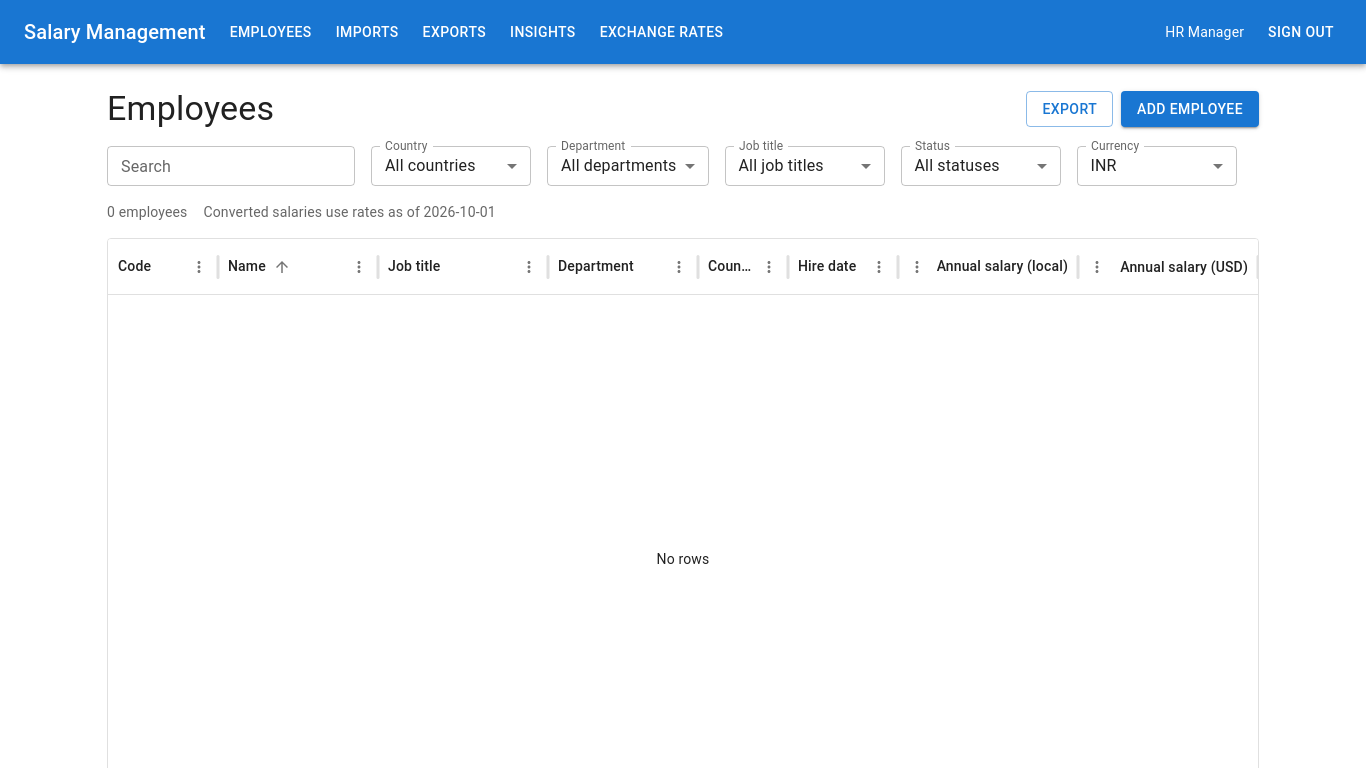
Test: export menu on the employees list › sends nothing when you cancel
Click the button "Export": (1070, 109) [1026,91,1113,127]
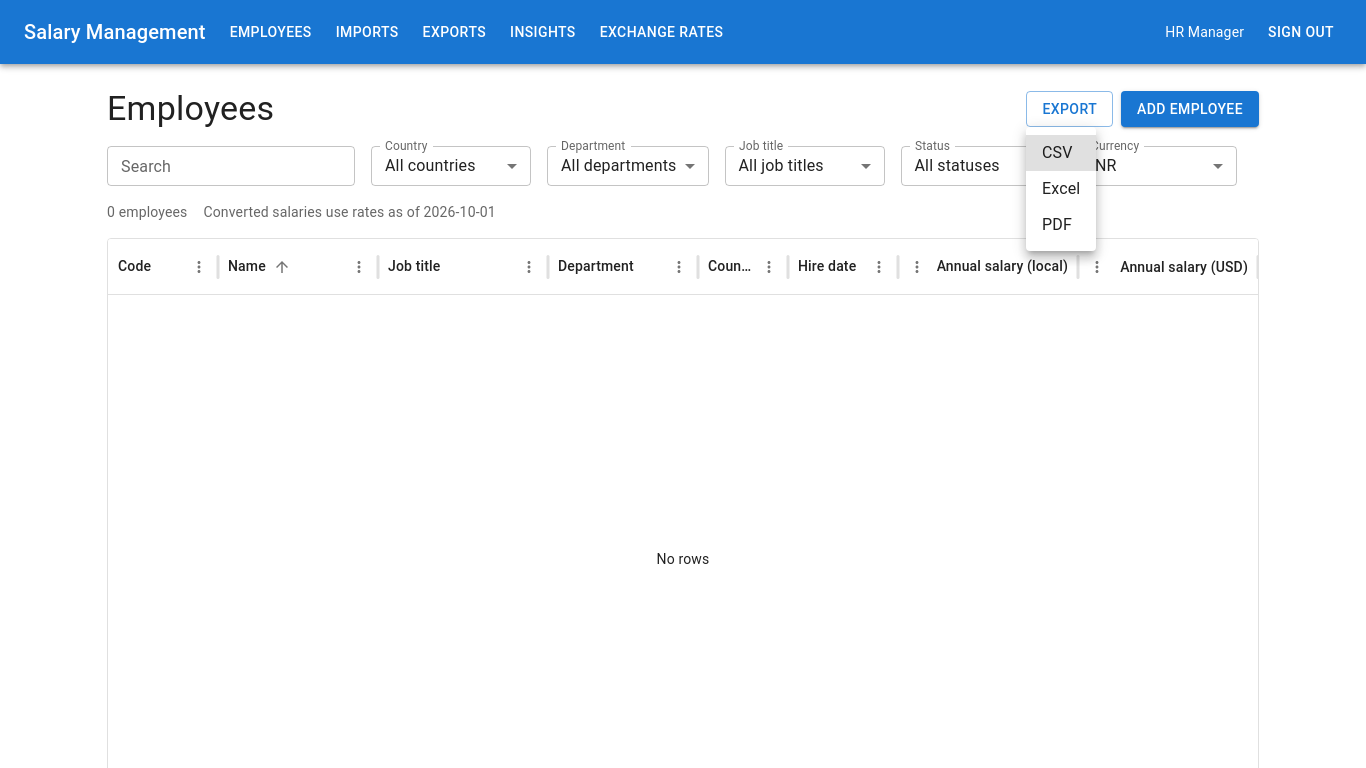
Click the menu item "PDF": (1057, 224) [1042,215,1072,234]
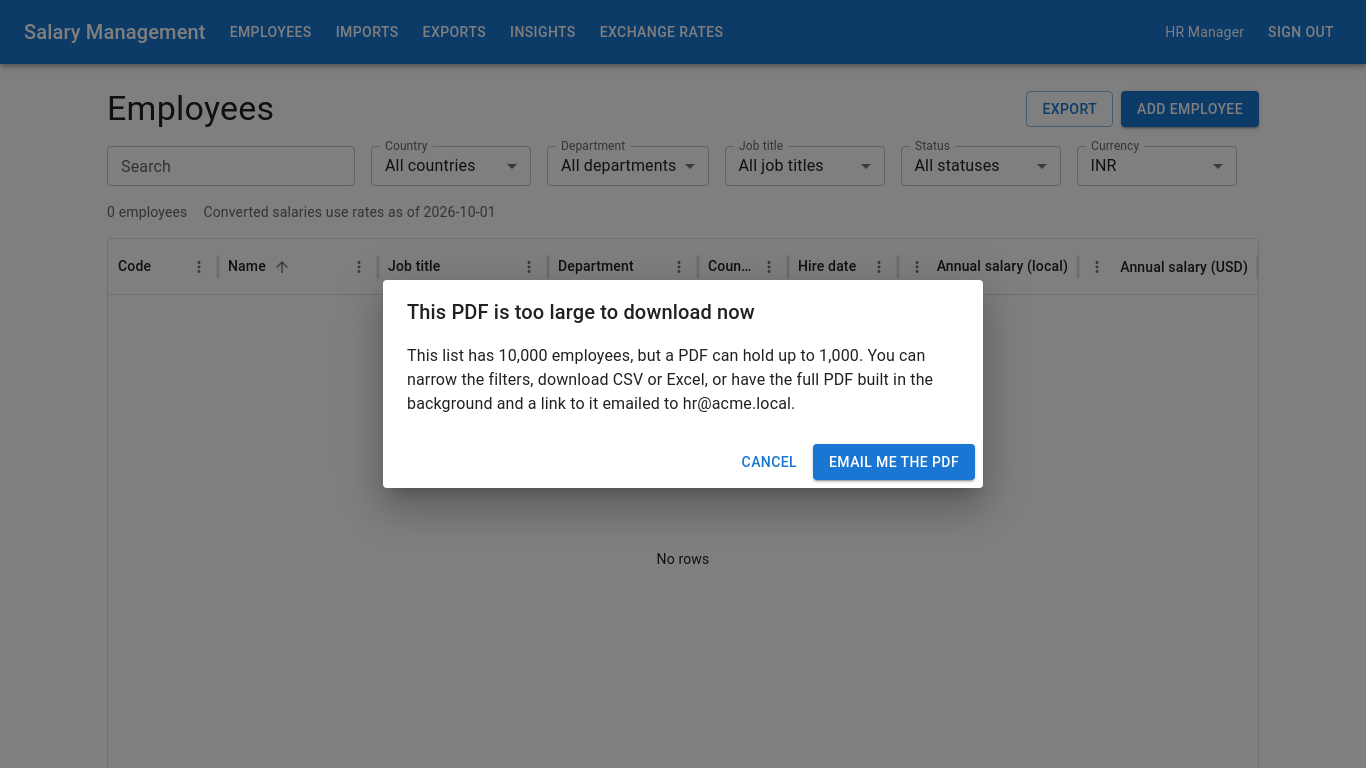
Click the button "Cancel": (769, 462) [734,444,805,480]
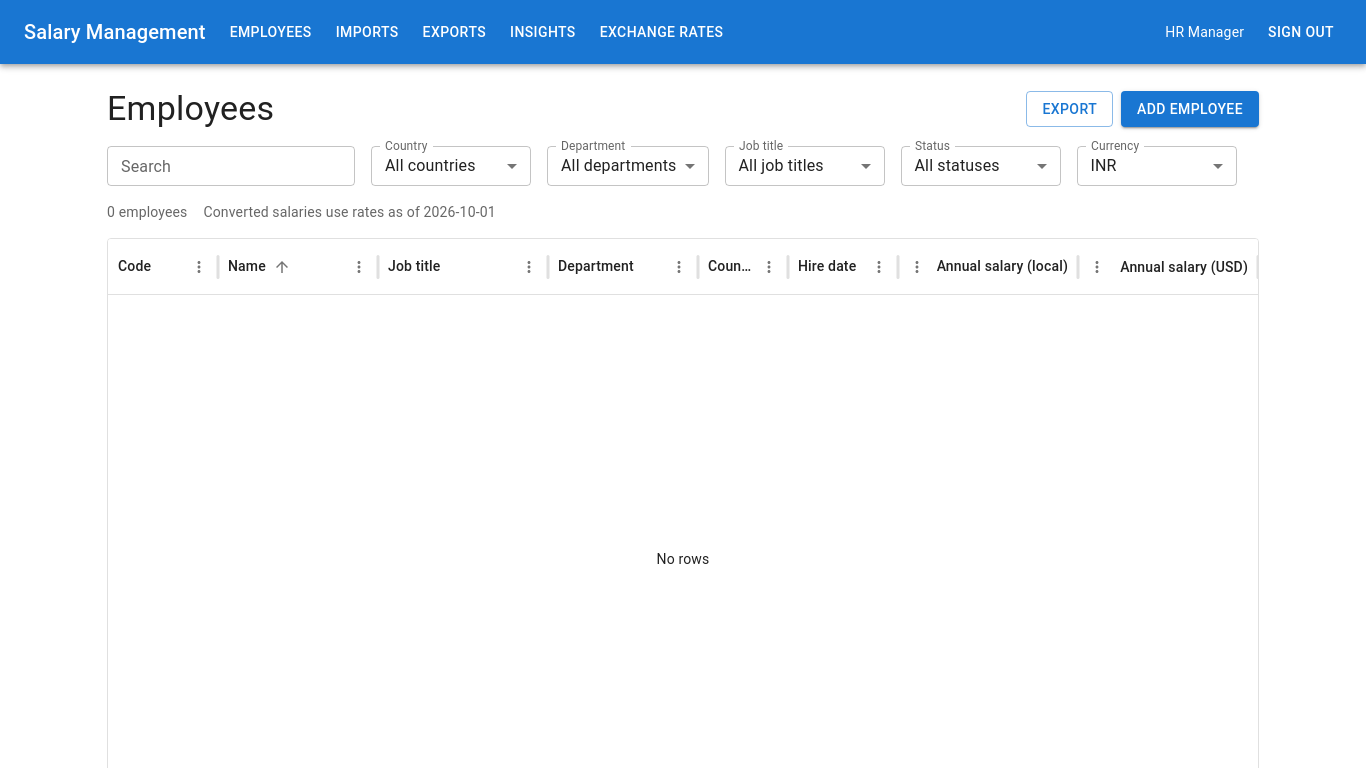
Result: the dialog is gone
